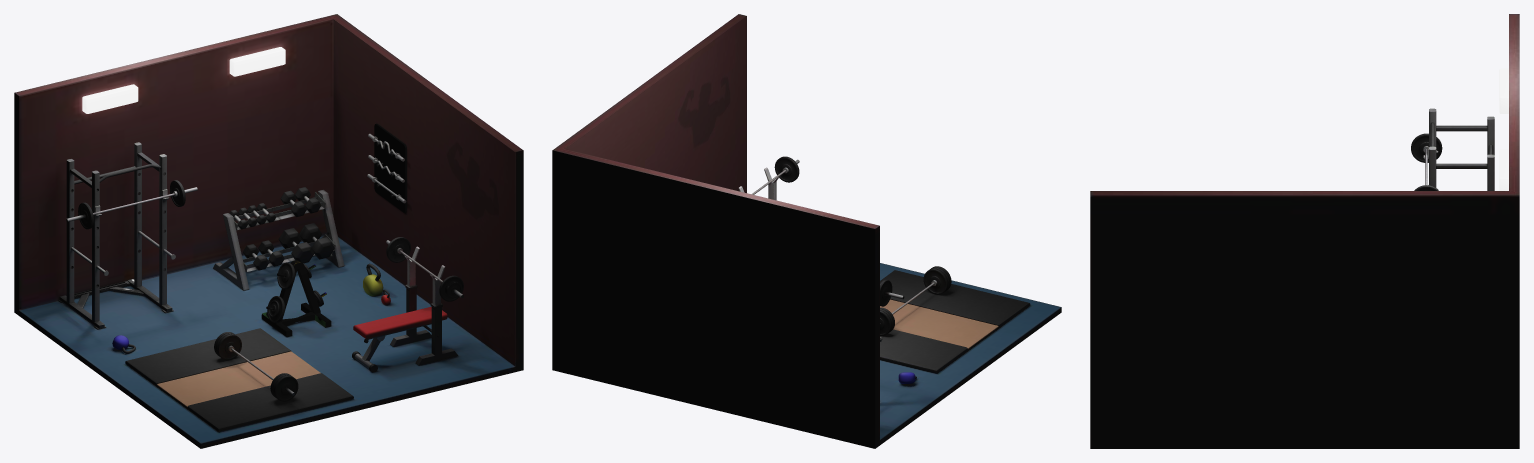
The model's file is gym-strength.glb.
The picture shows the model from 3 angles, left to right: view 1: azimuth 30°, elevation 25°; view 2: azimuth 150°, elevation 25°; view 3: azimuth 270°, elevation 25°; orthographic projection. The views are drawn at different scales.
Parts seen in each view (by area): view 1: gym-strength, deadlift, squat, dumbbells, bench, bar-rack, plates, light, kettlebells; view 2: gym-strength, deadlift, bench; view 3: gym-strength, squat, light.
Part boxes in pixels (x1,y1,x2,y2): gym-strength: (14,14,523,448); deadlift: (125,328,353,431); squat: (58,142,197,329); dumbbells: (213,187,344,290); bench: (352,237,463,372); bar-rack: (367,123,406,212); plates: (261,260,331,337); light: (82,47,285,113); kettlebells: (112,263,390,353); gym-strength: (552,14,1061,448); deadlift: (880,266,1030,373); bench: (738,156,799,200); gym-strength: (1090,14,1519,448); squat: (1411,108,1494,190); light: (1499,68,1508,190).
Bounding box in the file's own units: 3.07 × 2 × 3.07.
Materials: 31 (30 with a texture image).
